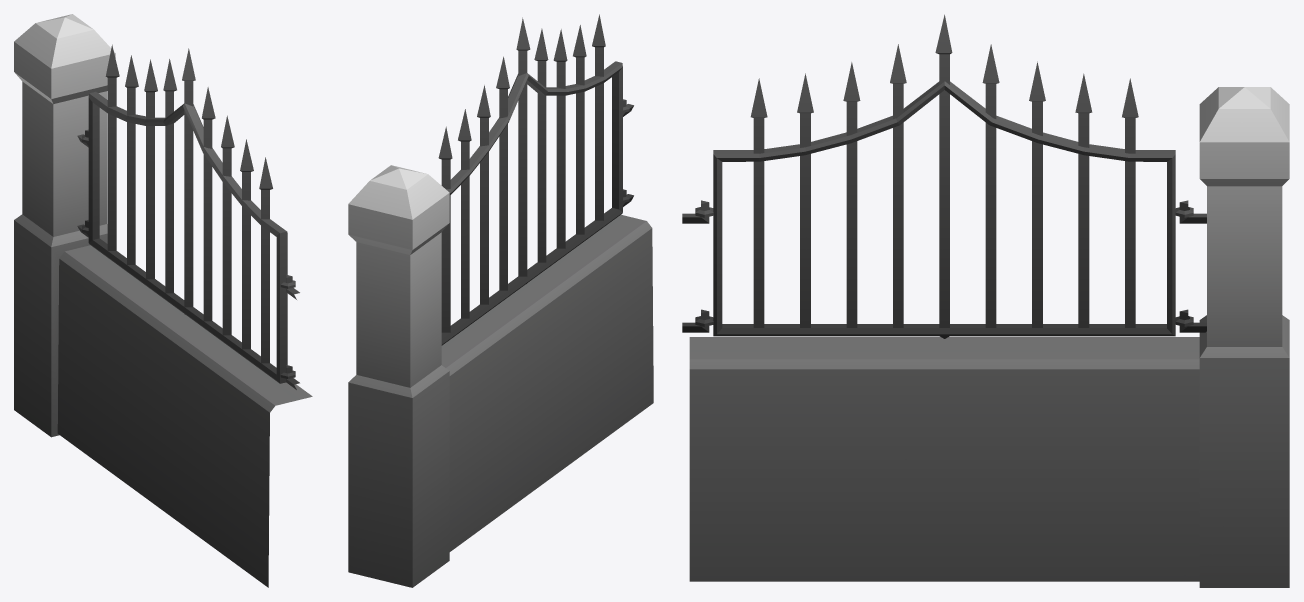
Rendered from fencestone.glb.
3 views of the same model, side by side, from view 1: azimuth 30°, elevation 25°; view 2: azimuth 150°, elevation 25°; view 3: azimuth 270°, elevation 25° (orthographic). The views are drawn at different scales.
Visible parts, largest first — view 1: FenceStone_mesh1; view 2: FenceStone_mesh1; view 3: FenceStone_mesh1.
Part boxes in pixels (x1=…): FenceStone_mesh1: x1=14, y1=14, x2=312, y2=587; FenceStone_mesh1: x1=348, y1=14, x2=653, y2=587; FenceStone_mesh1: x1=682, y1=14, x2=1289, y2=587.
Size of the model in its own units: 0.6 by 4.08 by 4.05.
1 material, 1 textured.
